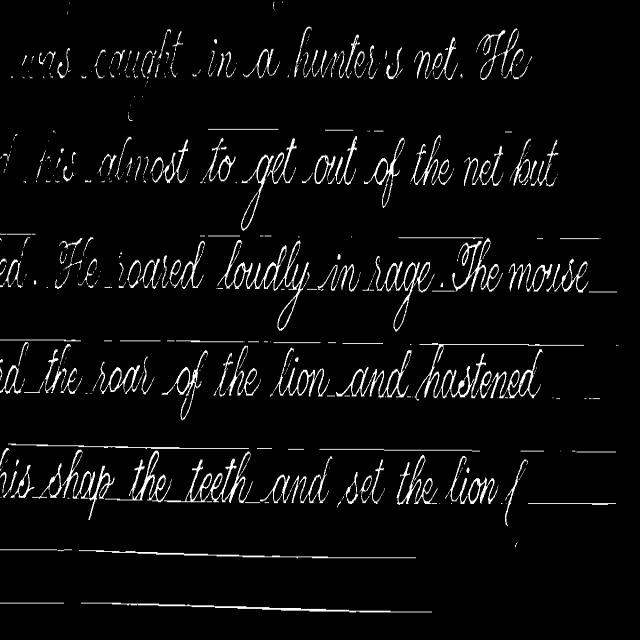noise: (0, 547, 416, 562), (80, 601, 432, 614), (8, 444, 250, 453), (420, 342, 584, 351), (318, 448, 481, 454), (166, 340, 322, 344), (0, 337, 84, 343), (256, 445, 304, 454), (398, 236, 490, 240), (208, 127, 280, 132), (0, 601, 68, 606), (520, 445, 545, 458), (326, 341, 386, 346), (566, 449, 616, 455), (528, 502, 616, 505), (559, 237, 600, 242), (0, 232, 35, 237), (118, 340, 160, 344), (324, 128, 354, 132), (588, 290, 618, 293), (201, 235, 240, 237), (260, 234, 272, 237), (535, 237, 544, 241), (367, 130, 384, 132), (505, 131, 512, 133)
not-noise: (20, 26, 532, 99), (210, 237, 588, 331), (232, 135, 456, 230), (0, 131, 189, 183), (54, 237, 206, 291), (0, 351, 158, 394), (418, 346, 542, 398), (270, 352, 410, 397), (160, 347, 262, 398), (462, 139, 558, 188), (186, 451, 252, 501), (446, 455, 500, 505), (265, 464, 328, 503), (46, 465, 112, 499), (130, 451, 171, 501), (396, 455, 437, 504), (0, 245, 42, 289), (344, 459, 384, 504), (181, 351, 207, 420), (501, 459, 528, 525), (0, 341, 29, 393), (204, 138, 236, 181), (0, 460, 31, 497), (0, 447, 8, 476), (128, 111, 133, 121)
